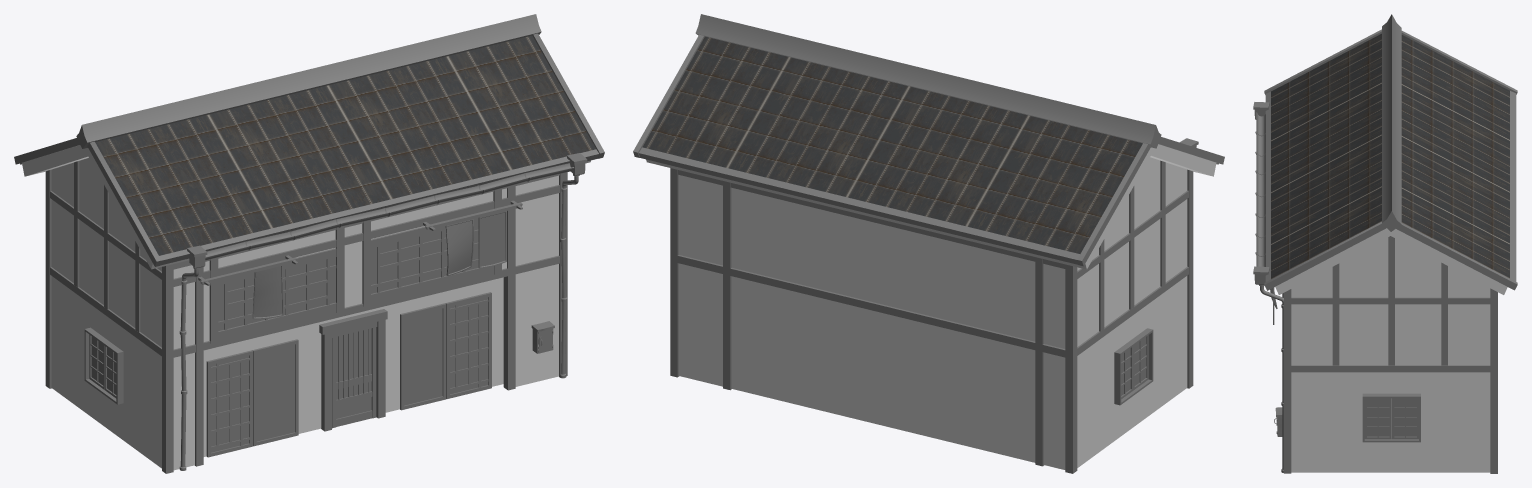
File: SM_house_japan_07.fbx
3 renders of one model, left to right at view 1: azimuth 30°, elevation 25°; view 2: azimuth 150°, elevation 25°; view 3: azimuth 270°, elevation 25°, orthographic. The views are drawn at different scales.
Visible parts, largest first — view 1: Object32341; view 2: Object32341; view 3: Object32341.
Part boxes in pixels (<box>): Object32341: <box>14,14,604,473</box>; Object32341: <box>633,14,1224,473</box>; Object32341: <box>1253,14,1517,473</box>.
Bounding box in the file's own units: 505 × 330 × 287.
